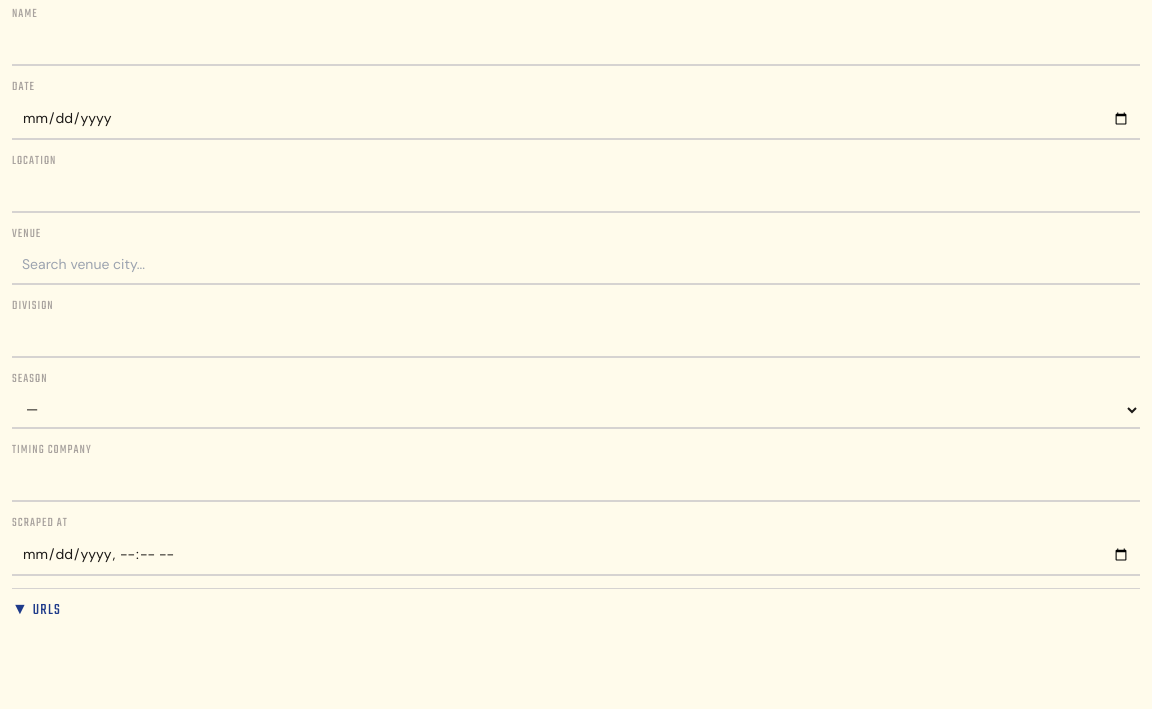
Scenario: MeetForm › renders tfrrs_id field in URLs section
Step 1. Click the button "▼ URLs" → (37,611), box left=12, top=599, right=61, bottom=623
(page scrolled)
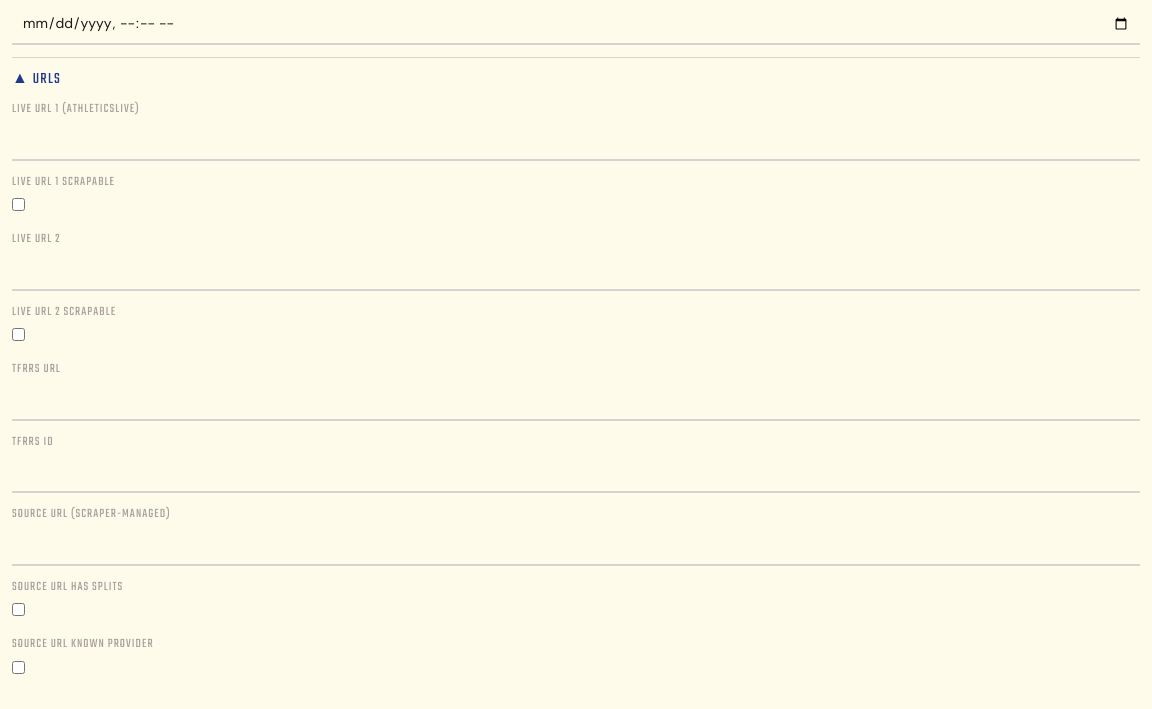
Expected: the field labelled "TFRRS ID" is shown, left=12, top=454, right=1140, bottom=493
